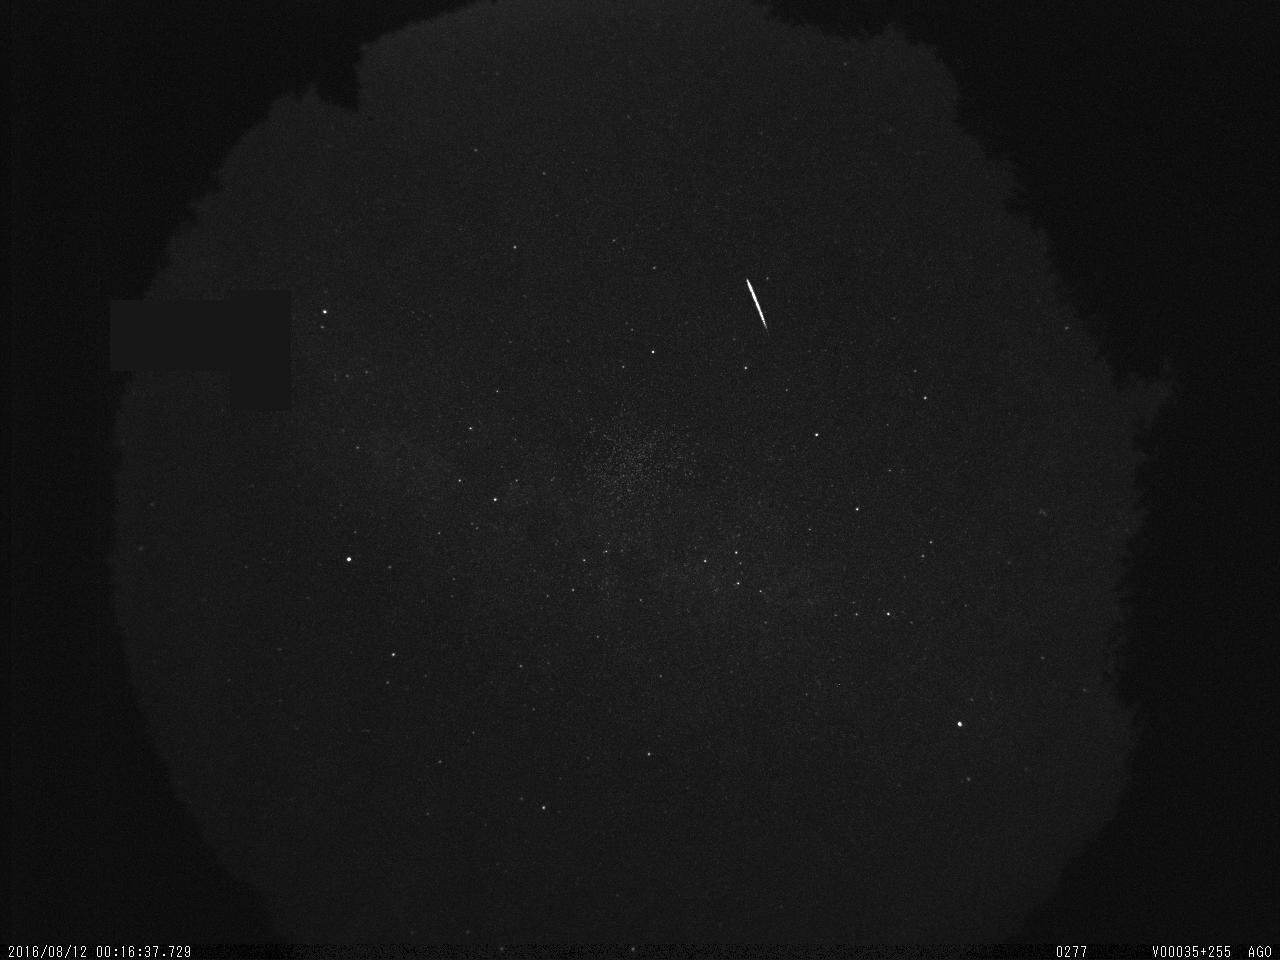meteor: (731, 273, 786, 341)
